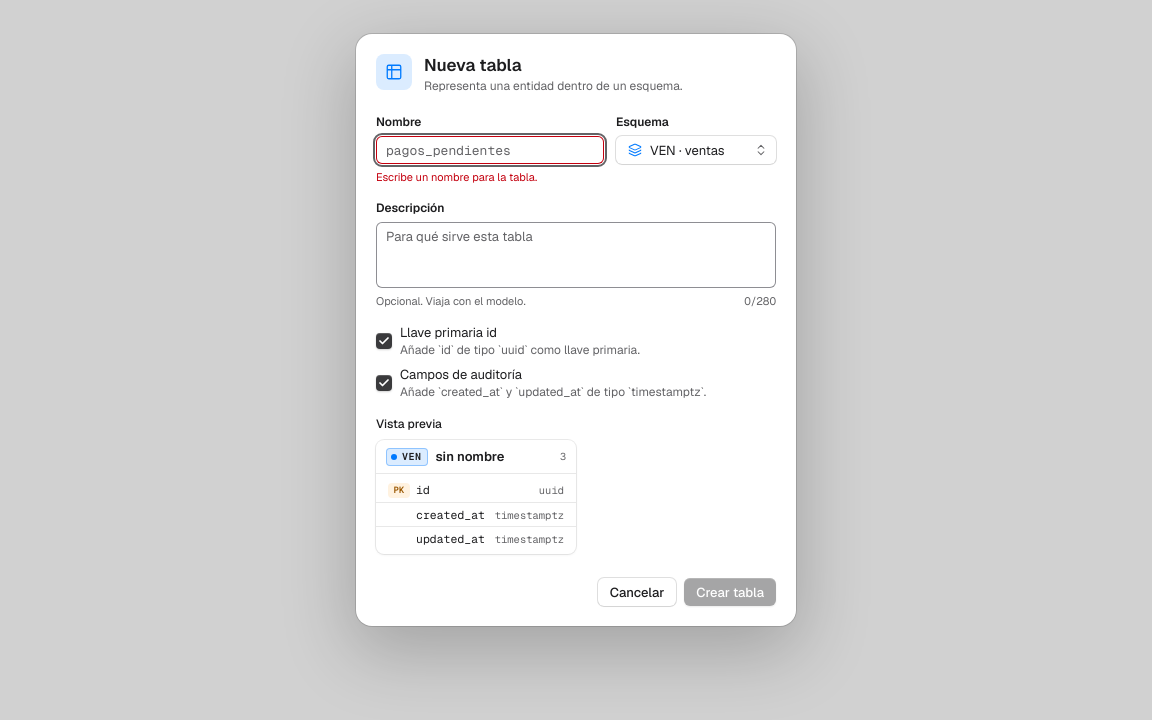
Test: TableDialog › lo que se escribe es el nombre técnico, y entonces no promete otro (FR-003)
Type "pedidos" into the field labelled "Nombre" at (490, 150), box [384,136,596,164]
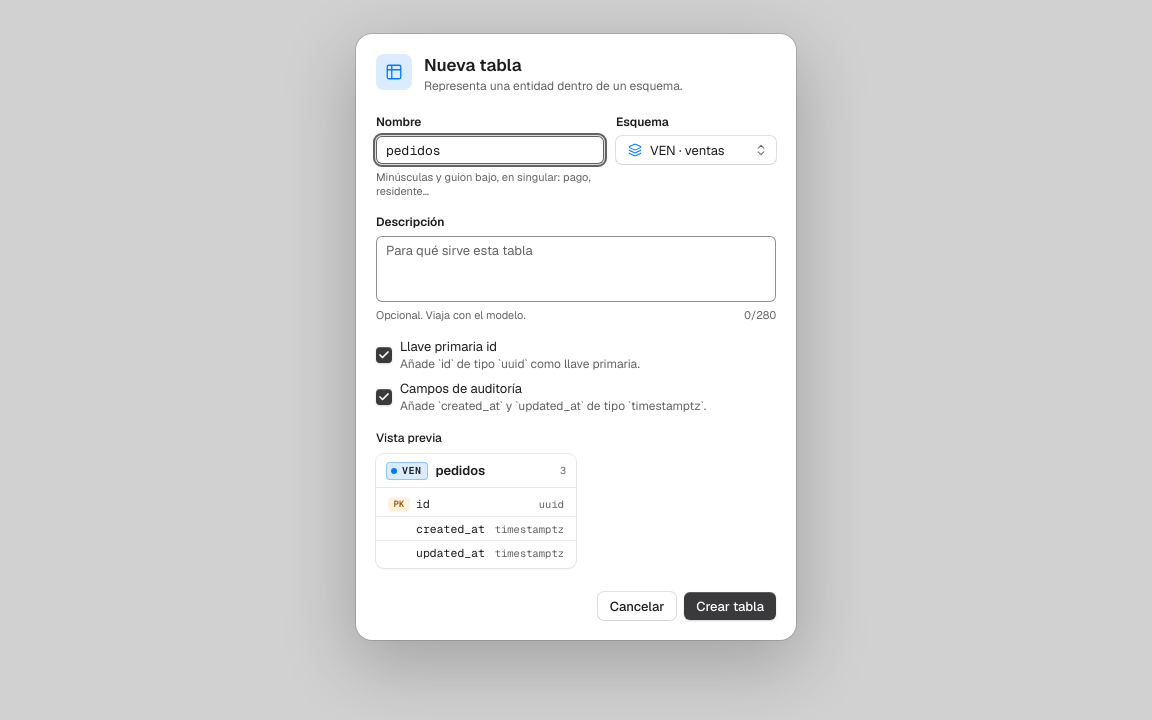
Check: the button "Crear tabla" is enabled, box [684,592,776,620]
